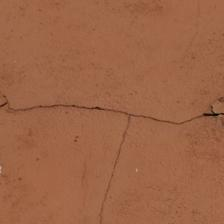Crack: (4, 90, 223, 132), (94, 120, 138, 221)
